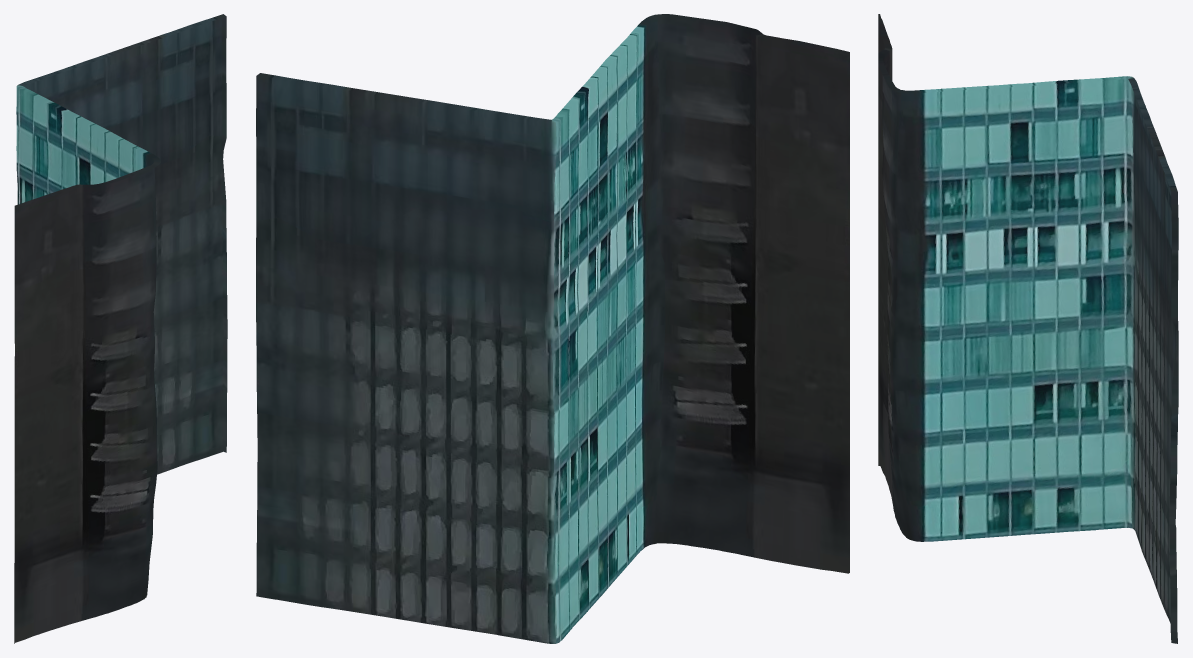
Rendered from z20-167771-405237-h1-yup-uvflip-v3-world.glb.
3 renders of one model, left to right at view 1: azimuth 30°, elevation 25°; view 2: azimuth 150°, elevation 25°; view 3: azimuth 270°, elevation 25°, orthographic. The views are drawn at different scales.
Bounding box in the file's own units: 30.16 × 35.68 × 21.48.
Materials: 1 (1 with a texture image).
